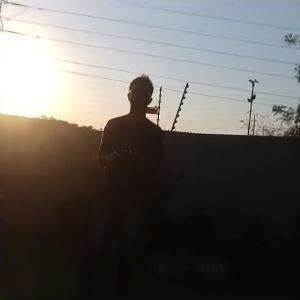follow: (89, 71, 163, 298)
